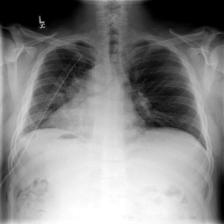normal: (13, 37, 212, 192)
